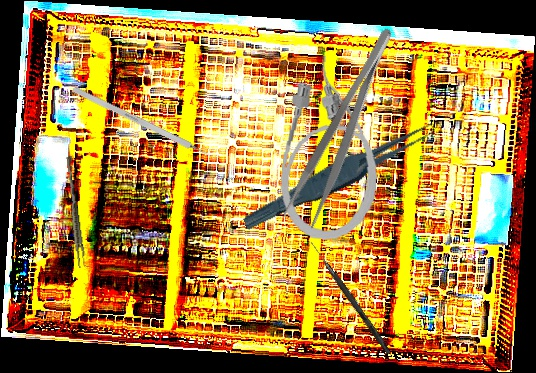Cannula: (276, 52, 387, 245)
Dressing Forceps: (278, 23, 415, 233)
Hook Surgical: (71, 85, 221, 164), (307, 240, 393, 355)
Tissue Forceps: (236, 119, 444, 233), (62, 155, 88, 269)
